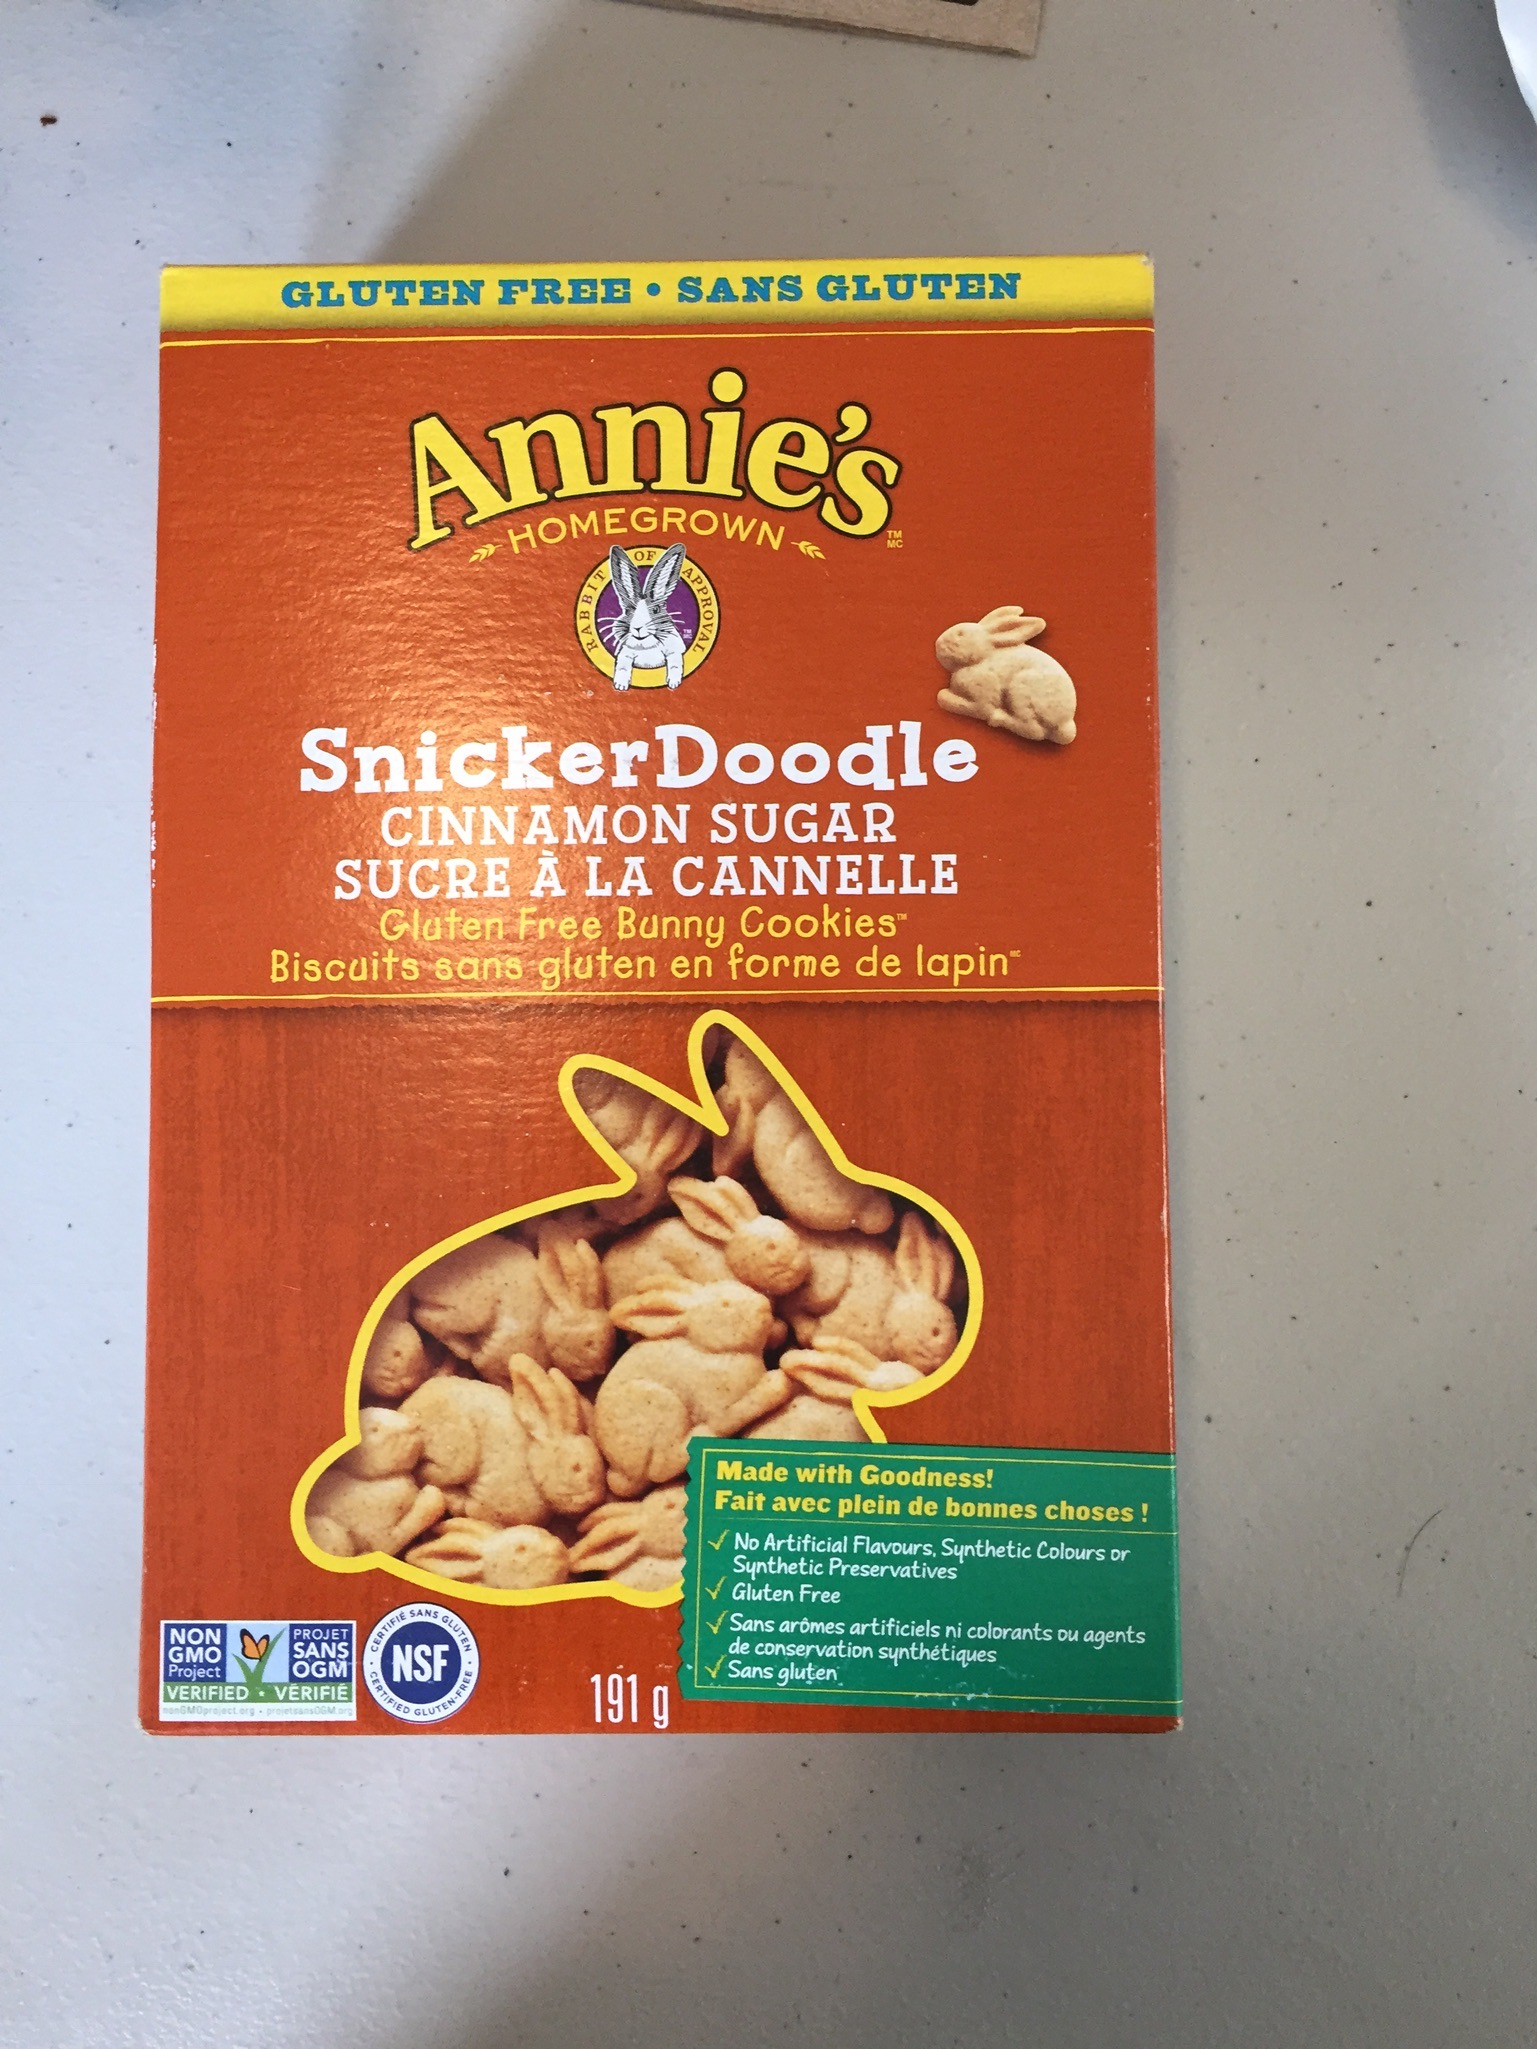annies_snickerdoodles_cinnamon_sugar: (176, 276, 1154, 1716)
